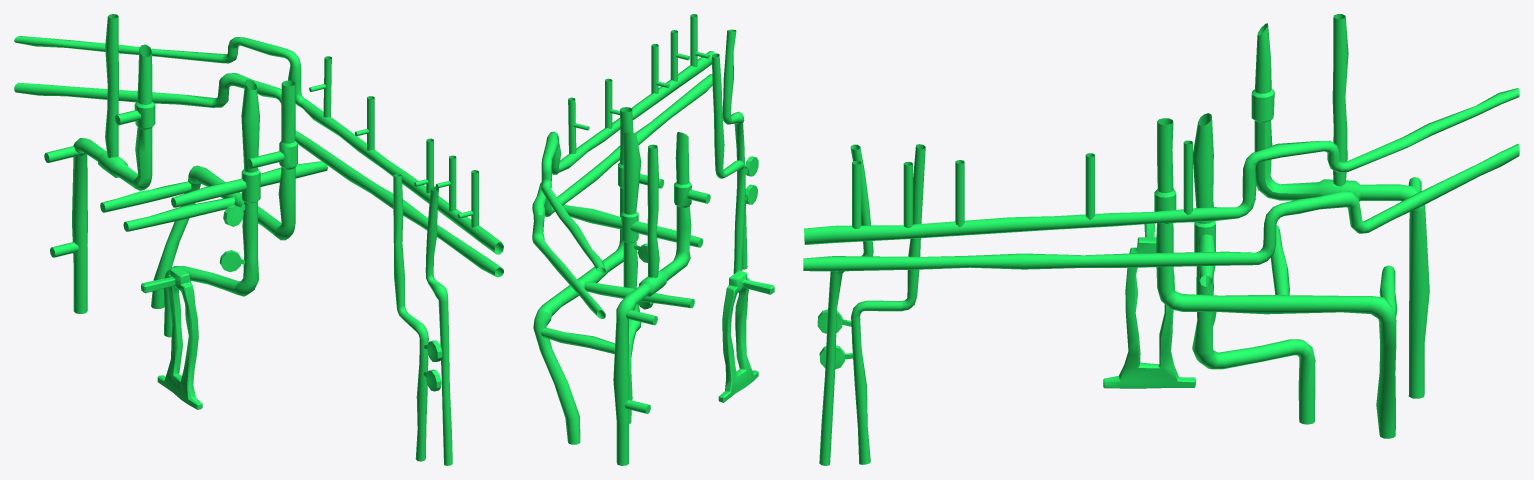
File: mc_side_right_int_macheine_lod01.FBX
The picture shows the model from 3 angles, left to right: view 1: azimuth 30°, elevation 25°; view 2: azimuth 150°, elevation 25°; view 3: azimuth 270°, elevation 25°; orthographic projection. The views are drawn at different scales.
Visible parts, largest first — view 1: mc_side_right_int_machine_static; view 2: mc_side_right_int_machine_static; view 3: mc_side_right_int_machine_static.
Boxes of the visible parts, x1,y1,x2,y2 form: mc_side_right_int_machine_static: [14, 14, 503, 465]; mc_side_right_int_machine_static: [532, 14, 774, 465]; mc_side_right_int_machine_static: [803, 14, 1519, 465].
Size of the model in its own units: 21.74 by 31.05 by 52.42.
